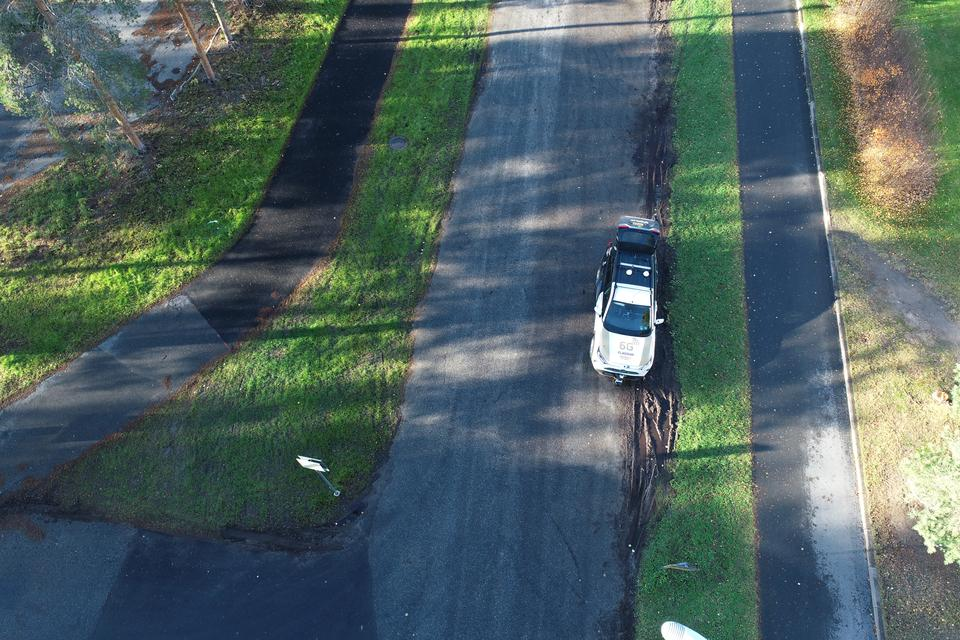intersection: (1, 324, 699, 640)
